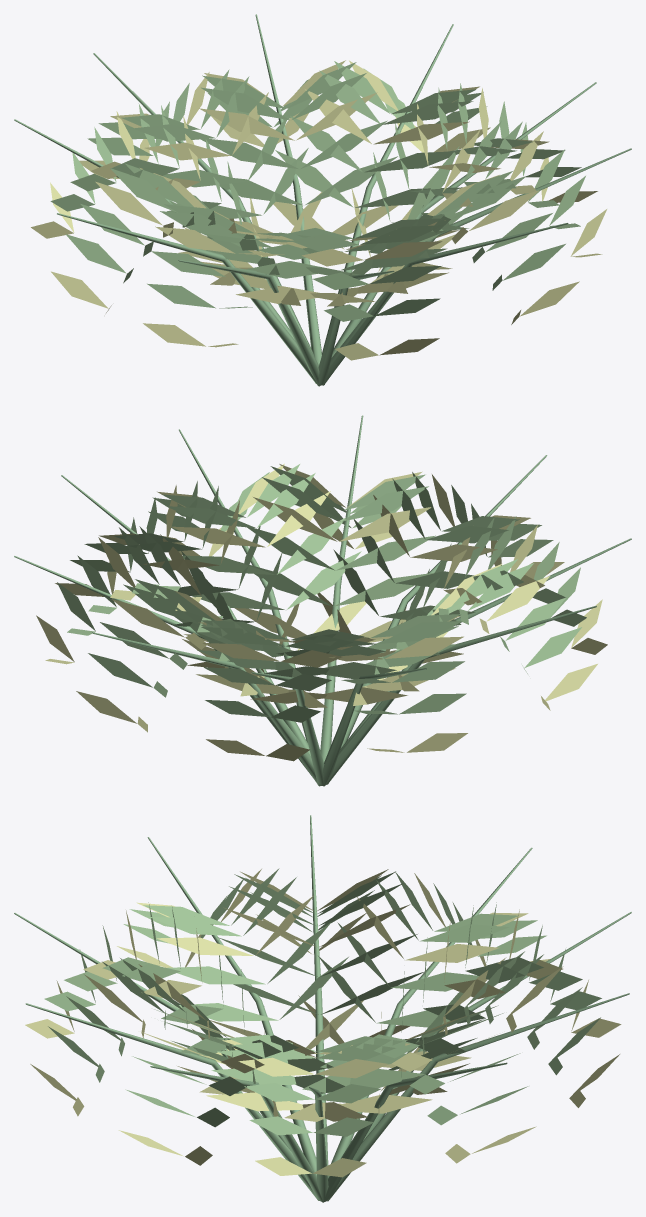
File: fern_shade.glb
3 views of the same model, one above another, from view 1: azimuth 30°, elevation 25°; view 2: azimuth 150°, elevation 25°; view 3: azimuth 270°, elevation 25° (orthographic). The views are drawn at different scales.
Visible parts, largest first — view 1: fern_shade; view 2: fern_shade; view 3: fern_shade.
Boxes of the visible parts, box(x1,y1,x2,y2) form: fern_shade: box(14, 14, 631, 386); fern_shade: box(14, 415, 631, 786); fern_shade: box(14, 815, 631, 1202).
Bounding box in the file's own units: 1.52 × 0.6508 × 1.46.
